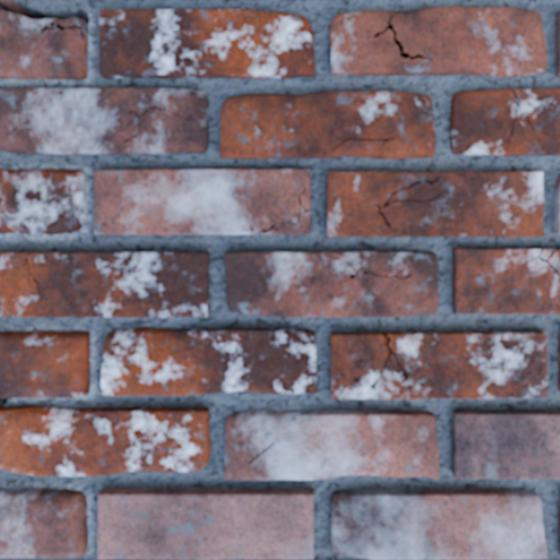brick: (331, 489, 546, 559), (98, 489, 313, 558), (331, 7, 546, 75), (100, 10, 314, 78), (0, 407, 210, 476), (225, 411, 438, 479), (331, 332, 546, 399), (221, 92, 435, 158), (102, 329, 315, 394), (0, 89, 209, 155), (327, 172, 542, 236), (95, 170, 309, 234), (224, 252, 437, 316), (0, 253, 209, 316), (453, 410, 559, 478), (451, 90, 559, 155), (453, 249, 559, 313), (0, 487, 89, 559), (0, 168, 87, 236), (555, 175, 559, 234), (550, 253, 559, 270), (557, 13, 559, 76), (542, 249, 552, 258), (558, 505, 559, 535)
broken_brick: (0, 331, 91, 399), (0, 12, 89, 80)
crack: (0, 0, 90, 39), (248, 188, 310, 235), (370, 332, 410, 391), (524, 248, 559, 282), (507, 90, 523, 145), (0, 398, 8, 407), (25, 252, 30, 266)
